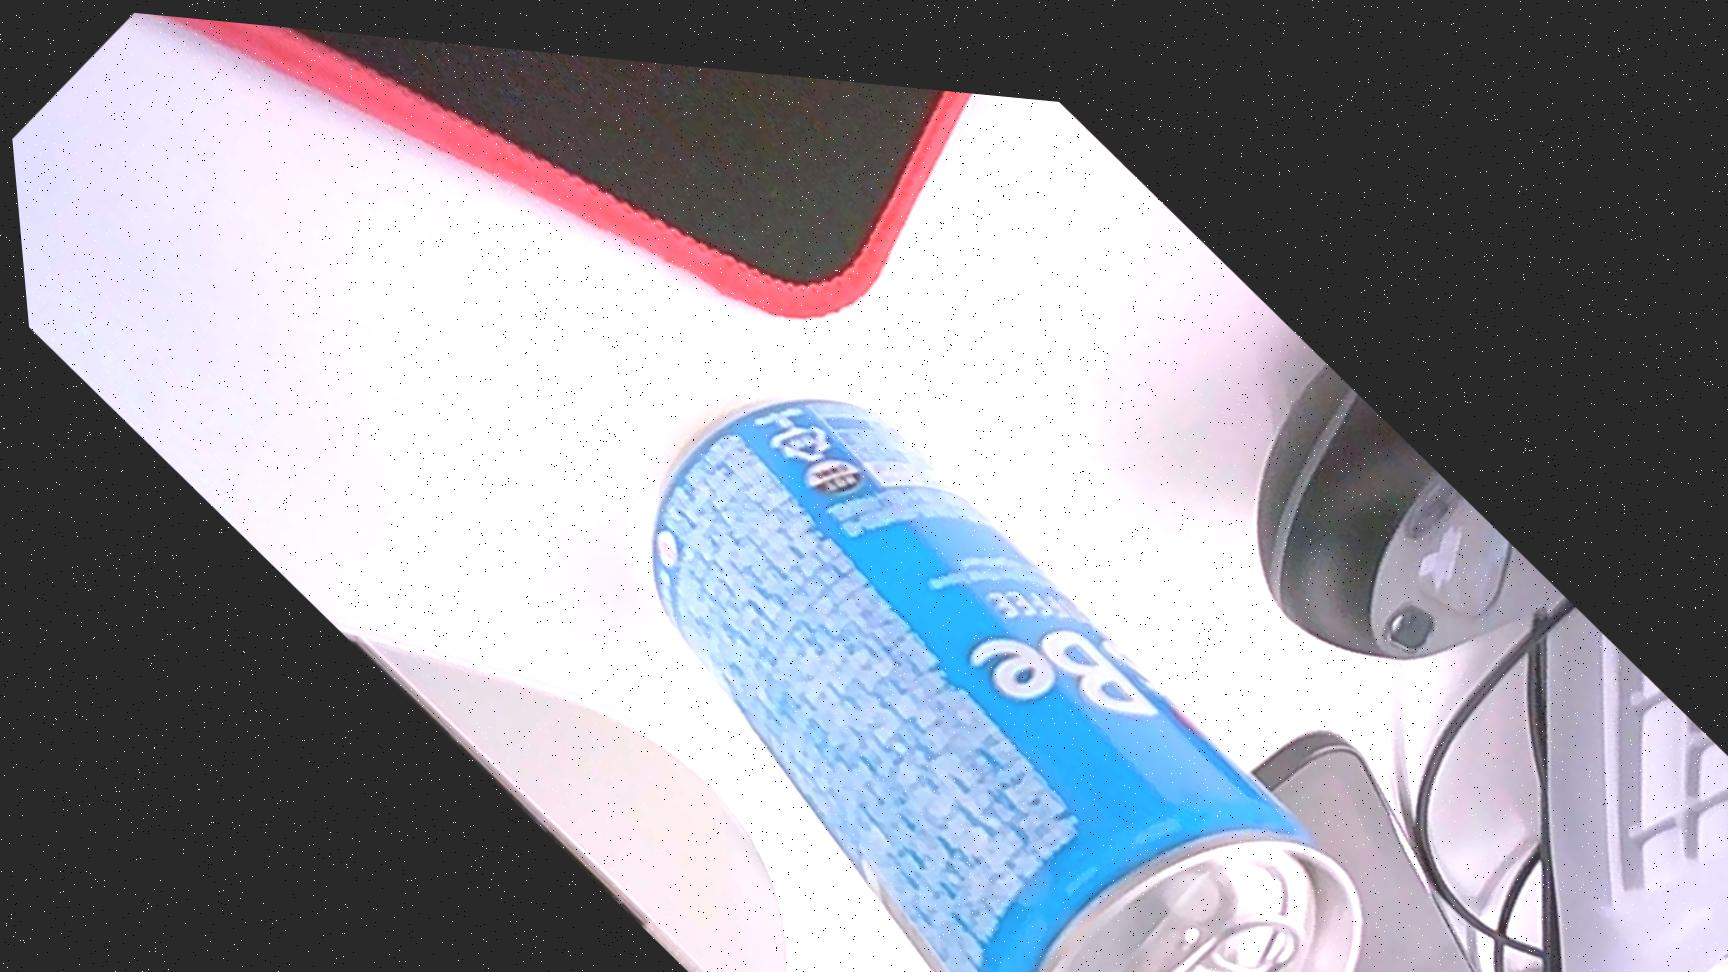letsbe: (489, 287, 1419, 972)
